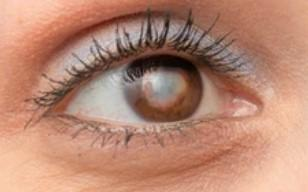eye: (125, 52, 202, 122)
